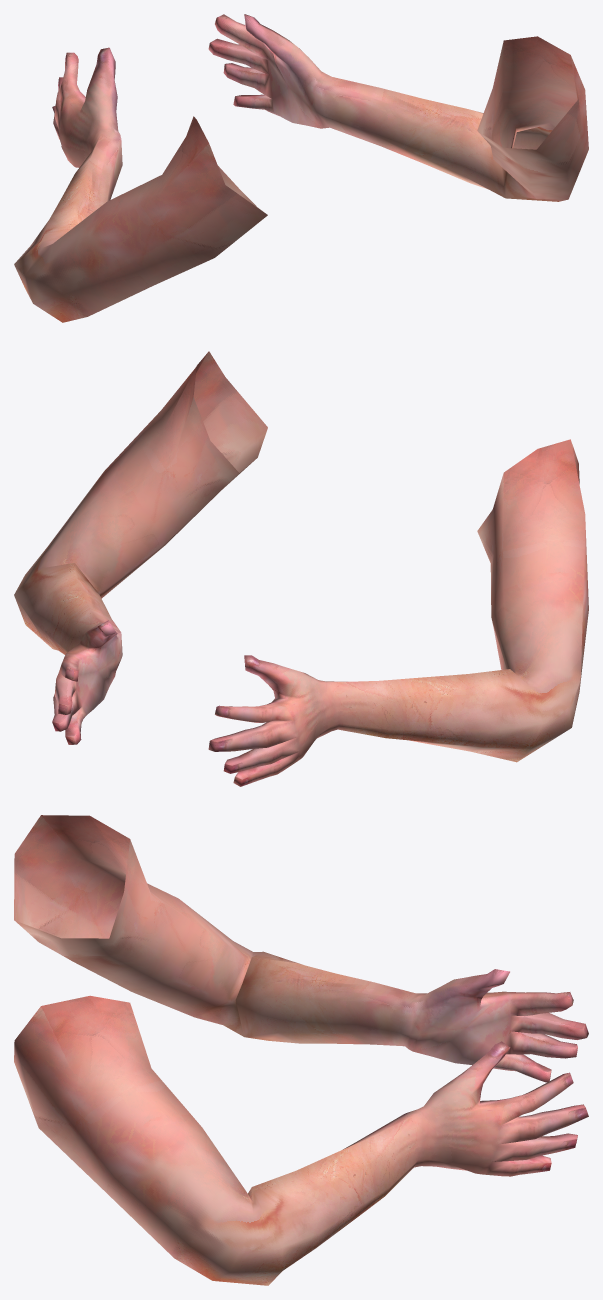
File: support.glb
3 views of the same model, one above another, from view 1: azimuth 30°, elevation 25°; view 2: azimuth 150°, elevation 25°; view 3: azimuth 270°, elevation 25° (orthographic). The views are drawn at different scales.
Parts seen in each view (by area): view 1: PlayerArms_support; view 2: PlayerArms_support; view 3: PlayerArms_support.
Part boxes in pixels (left/top/right/bottom): PlayerArms_support: left=14, top=14, right=588, bottom=322; PlayerArms_support: left=14, top=351, right=588, bottom=786; PlayerArms_support: left=14, top=815, right=588, bottom=1285.
Bounding box in the file's own units: 0.8187 × 0.3428 × 0.6934.
Materials: 1 (1 with a texture image).
